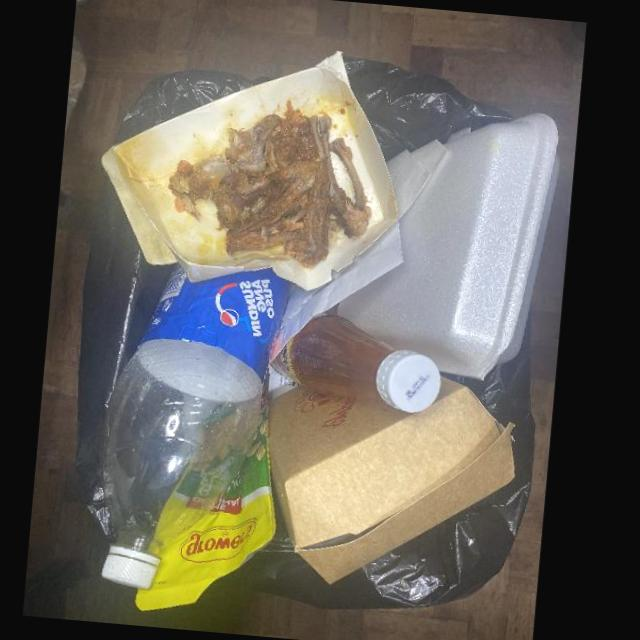bao_bi_thuc_pham: (134, 395, 276, 610)
carton: (100, 50, 398, 289), (268, 376, 515, 583)
chai_nhua_pet: (101, 266, 290, 588)
chai_thuy_tinh: (270, 312, 441, 412)
giay: (270, 219, 404, 365)
thuc_an_thua: (169, 102, 371, 268)
xop: (332, 111, 558, 379)
